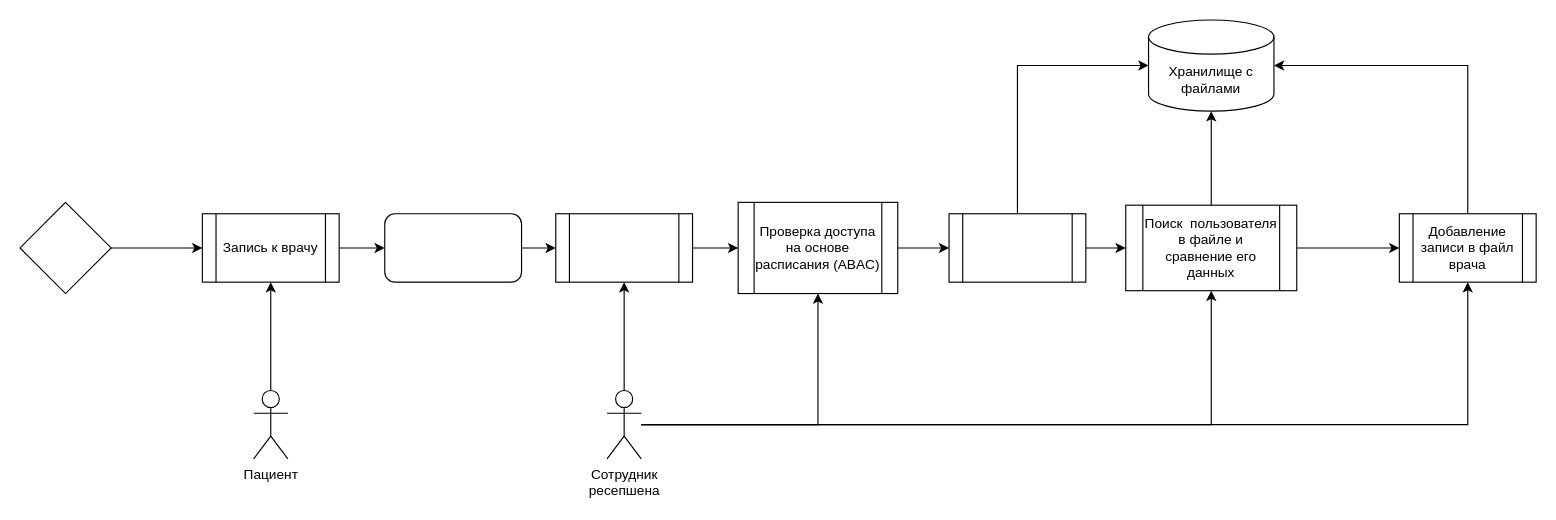
The diagram is 1556 pixels wide and 520 high, and some of its shapes have lost their labels. Each missing label, with the centre of its shape:
Данные: - ФИО пациента - ФИО врача - время записи: point (453, 247)
Начало: point (65, 247)
Проверка данных: point (624, 247)
Расшифровка хранилища: point (1017, 247)
